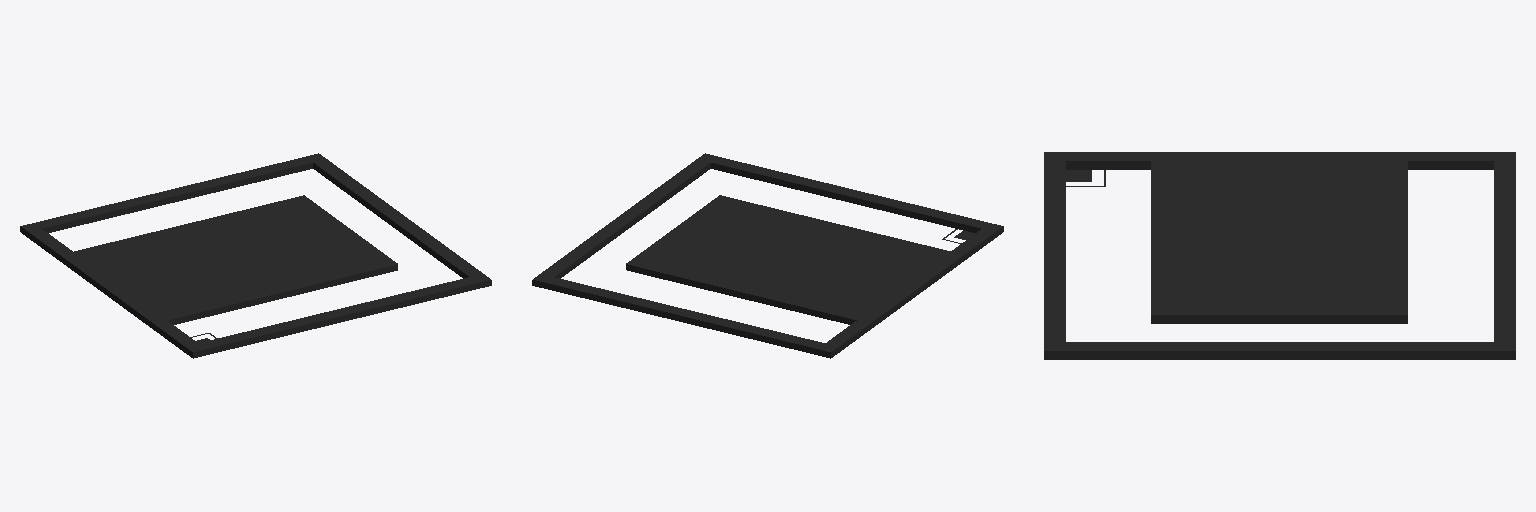
The robot description file, URDF, robot "Room4":
<robot name="Room4">
    <link name="_name">
        <visual> 
            <origin rpy="0.0 0.0 0.0" xyz="-0.4527893277684545 -0.49901227218880884 -0.010000000000000002" />
                <geometry>
                    <mesh filename="Room4/Room4.obj" scale="1 1 0.1" />
                </geometry>

            <material name="black">
                <color rgba="0.2 0.2 0.2 0.95" />
            </material>
        </visual>

       <collision concave="yes" name="collision_0">
            <origin rpy="0.0 0.0 0.0" xyz="-0.4527893277684545 -0.49901227218880884 -0.010000000000000002" />
            <geometry>
                <mesh filename="Room4/Room4_vhacd.obj" scale="1 1 0.1" />
            </geometry>
        </collision>

        <inertial> 
            <mass value="0" />
            <inertia ixx="0" ixy="0" ixz="0" iyy="0" iyz="0" izz="0" />
        </inertial> 
    </link>
</robot>

--- Render facts (derived) ---
Views: 3 orthographic renders of the robot side by side, from view 1: azimuth 30°, elevation 25°; view 2: azimuth 150°, elevation 25°; view 3: azimuth 270°, elevation 25°.
Robot: Room4 — 1 links, 0 joints (none); root link _name; default pose: all joints at 0.
Links seen in each view (by area): view 1: _name; view 2: _name; view 3: _name.
Link boxes in pixels (x1,y1,x2,y2): _name: (20, 153, 491, 358); _name: (532, 153, 1003, 358); _name: (1044, 152, 1515, 359).
Bounding box of the posed robot: 1 × 1 × 0.02 m (x, y, z).
1 mesh visuals loaded from 1 distinct referenced files (1 OBJ).